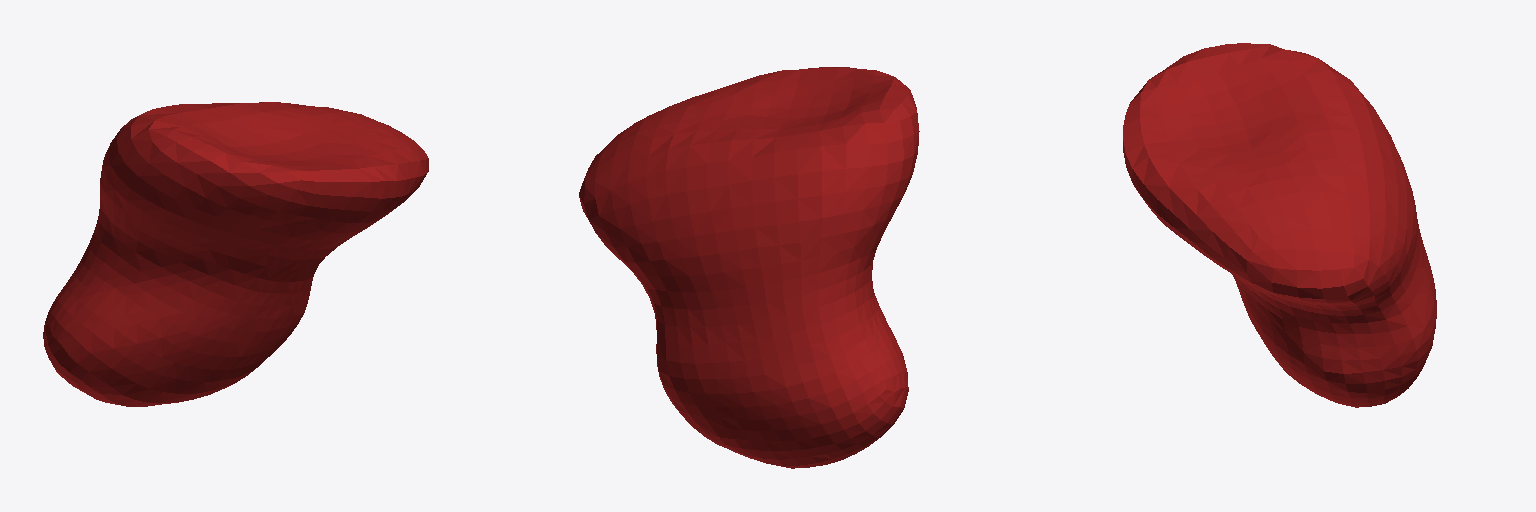
File: DistalPhalanx_2.obj
3 views of the same model, side by side, from view 1: azimuth 30°, elevation 25°; view 2: azimuth 150°, elevation 25°; view 3: azimuth 270°, elevation 25° (orthographic).
Visible parts, largest first — view 1: Object_0DistalPhalanx_2; view 2: Object_0DistalPhalanx_2; view 3: Object_0DistalPhalanx_2.
Part boxes in pixels (x1,y1,x2,y2): Object_0DistalPhalanx_2: (43, 102, 428, 406); Object_0DistalPhalanx_2: (579, 67, 919, 468); Object_0DistalPhalanx_2: (1123, 43, 1436, 407).
Bounding box in the file's own units: 12.82 × 11.71 × 10.4.